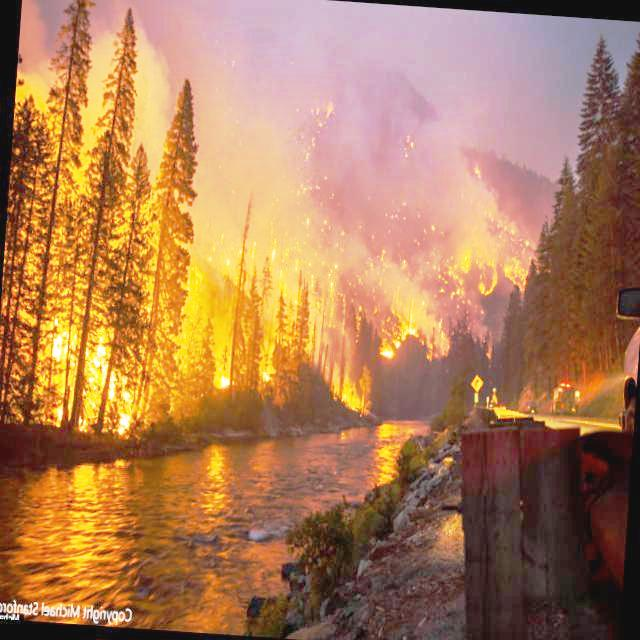api: (383, 316, 426, 369), (109, 400, 136, 443), (48, 312, 68, 365), (249, 364, 274, 393), (211, 368, 232, 392)
asap: (146, 1, 513, 275)
